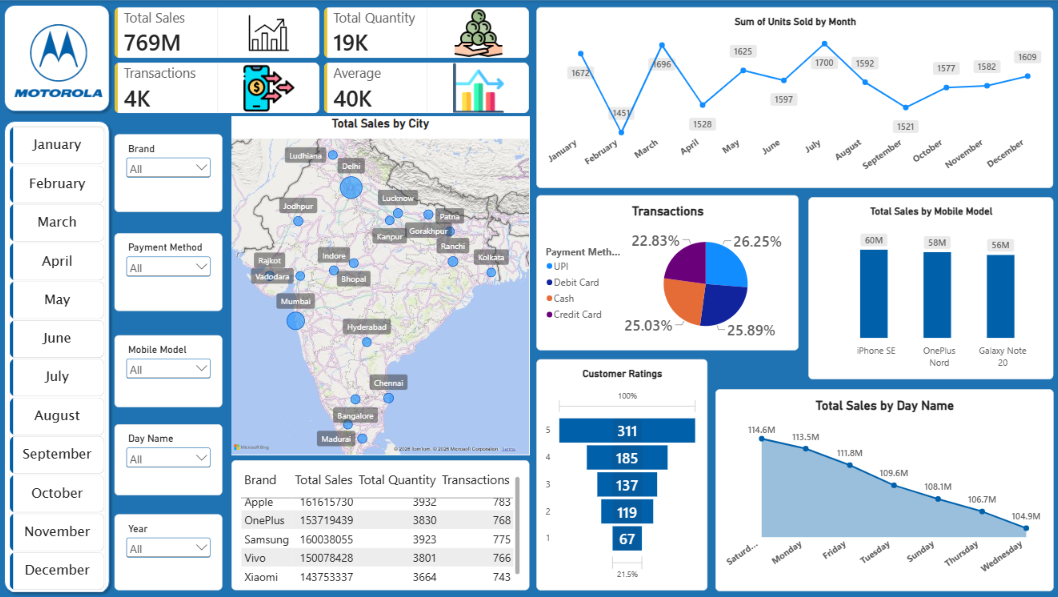

Layout of this report page (visuals, bound fields, positions):
{"tool":"powerbi","page":{"name":"Page 1","canvas":[1920,1080],"ordinal":0},"visuals":[{"type":"shape","box":[0,0,208,210],"z":0},{"type":"image","box":[27.1,12.7,159.3,193.6],"z":1000},{"type":"shape","box":[0,209.9,208.1,870.4],"z":2000},{"type":"advancedSlicerVisual","fields":{"Values":["Sales_Data.Date.Variation.Date Hierarchy.Month"]},"box":[18.1,228,173.7,843.3],"z":3000},{"type":"cardVisual","fields":{"Data":["Sales_Data.Total Sales","Sales_Data.Total Quantity","Sales_Data.Transactions","Sales_Data.Average"]},"box":[208.1,12.7,751,193.6],"z":4000},{"type":"map","fields":{"Category":["Sales_Data.City"],"Size":["Sales_Data.Total Sales"]},"box":[419.8,209.9,539.3,613.5],"z":5000},{"type":"lineChart","fields":{"Y":["Sum(Sales_Data.Units Sold)"],"Category":["Sales_Data.Date.Variation.Date Hierarchy.Month","Sales_Data.Date.Variation.Date Hierarchy.Day"]},"box":[971.8,12.7,935.6,327.5],"z":6000},{"type":"clusteredColumnChart","fields":{"Category":["Sales_Data.Mobile Model"],"Y":["Sales_Data.Total Sales"]},"box":[1464,356.5,443.4,329.4],"z":7000},{"type":"pieChart","title":"Transactions","fields":{"Y":["Sales_Data.Transactions"],"Category":["Sales_Data.Payment Method"]},"box":[971.8,352.9,474.1,280.5],"z":8000},{"type":"tableEx","title":"Customer Ratings","fields":{"Values":["Sales_Data.Brand","Sales_Data.Total Sales","Sales_Data.Total Quantity","Sales_Data.Transactions"]},"box":[419.8,832.4,539.3,235.3],"z":9000},{"type":"areaChart","fields":{"Category":["Sales_Data.Day Name"],"Y":["Sales_Data.Total Sales"]},"box":[1295.7,704,611.7,365.6],"z":10000},{"type":"slicer","title":"Customer Ratings","fields":{"Values":["Sales_Data.Brand"]},"box":[208.1,242.5,195.4,141.2],"z":11000},{"type":"slicer","title":"Customer Ratings","fields":{"Values":["Sales_Data.Payment Method"]},"box":[208.1,421.7,195.4,141.2],"z":12000},{"type":"funnel","title":"Customer Ratings","fields":{"Category":["Sales_Data.Customer Ratings"],"Y":["CountNonNull(Sales_Data.Customer Ratings)"]},"box":[971.8,649.7,309.5,418],"z":13000},{"type":"slicer","title":"Customer Ratings","fields":{"Values":["Sales_Data.Mobile Model"]},"box":[208.1,606.2,195.4,130.3],"z":14000},{"type":"slicer","title":"Customer Ratings","fields":{"Values":["Sales_Data.Day Name"]},"box":[208.1,767.3,195.4,128.5],"z":15000},{"type":"slicer","title":"Customer Ratings","fields":{"Values":["Sales_Data.Date.Variation.Date Hierarchy.Year"]},"box":[208.1,930.2,195.4,137.5],"z":16001}]}

Visuals, with their boxes in screenshot pixels (x1, y1, x2, y2), scaled from the page's 1920x1080 canvas onto the 1058x597 screenshot:
shape: 0 0 115 116
image: 15 7 103 114
shape: 0 116 115 596
advancedSlicerVisual - Sales_Data.Date.Variation.Date Hierarchy.Month: 10 126 106 592
cardVisual - Sales_Data.Total Sales x Sales_Data.Total Quantity: 115 7 529 114
map - Sales_Data.City x Sales_Data.Total Sales: 231 116 529 455
lineChart - Sum(Sales_Data.Units Sold) x Sales_Data.Date.Variation.Date Hierarchy.Month: 536 7 1051 188
clusteredColumnChart - Sales_Data.Mobile Model x Sales_Data.Total Sales: 807 197 1051 379
"Transactions" pieChart: 536 195 797 350
"Customer Ratings" tableEx: 231 460 529 590
areaChart - Sales_Data.Day Name x Sales_Data.Total Sales: 714 389 1051 591
"Customer Ratings" slicer: 115 134 222 212
"Customer Ratings" slicer: 115 233 222 311
"Customer Ratings" funnel: 536 359 706 590
"Customer Ratings" slicer: 115 335 222 407
"Customer Ratings" slicer: 115 424 222 495
"Customer Ratings" slicer: 115 514 222 590
